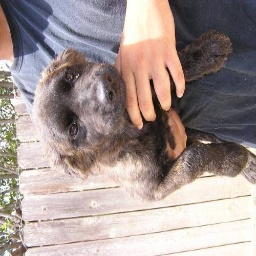dog: (29, 30, 247, 209)
